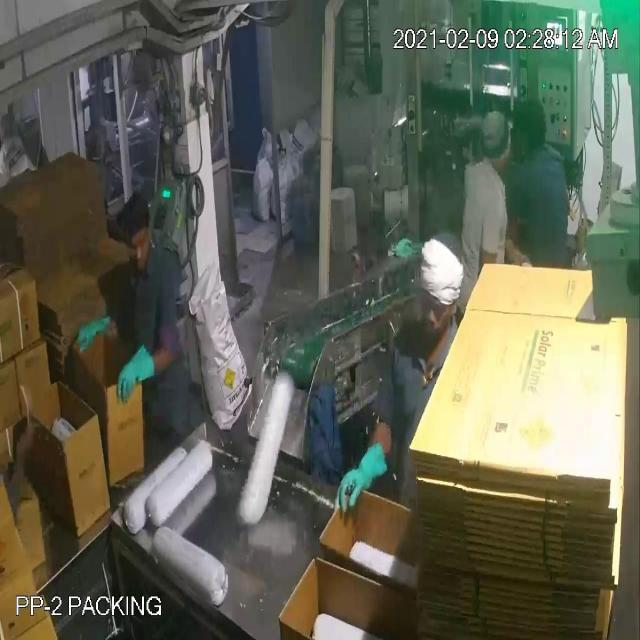Gloves: (26, 46, 360, 474)
